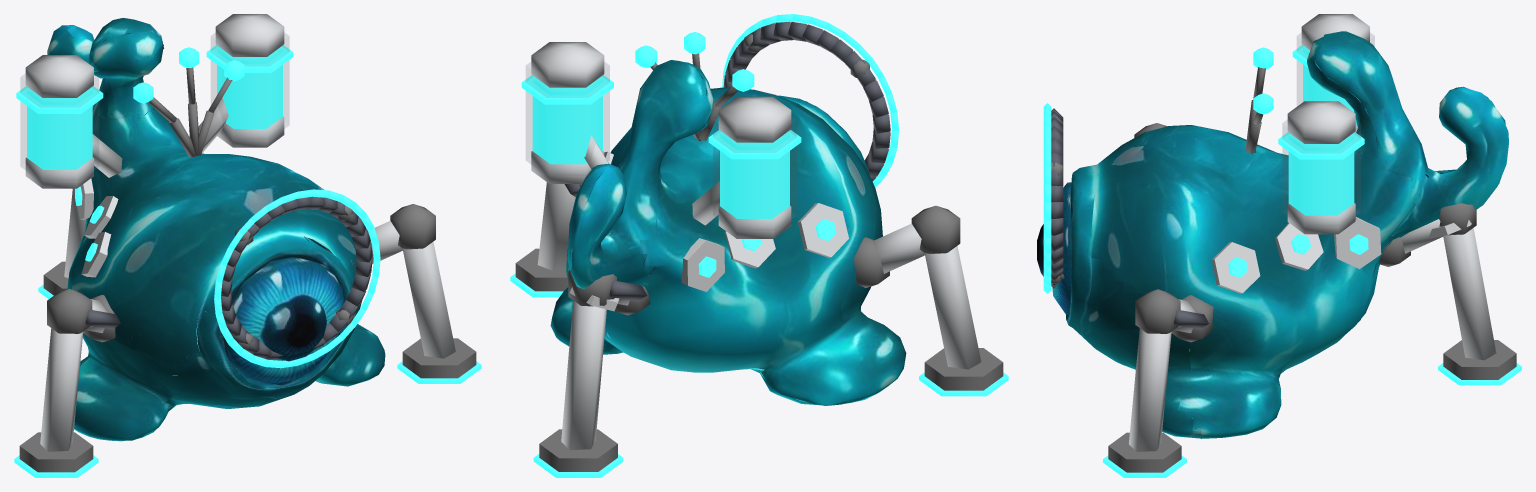
Rendered from Monster_VEX.glb.
3 views of the same model, side by side, from view 1: azimuth 30°, elevation 25°; view 2: azimuth 150°, elevation 25°; view 3: azimuth 270°, elevation 25° (orthographic). The views are drawn at different scales.
Parts seen in each view (by area): view 1: Monster_VEX, Monster_VEX_Evolution; view 2: Monster_VEX, Monster_VEX_Evolution; view 3: Monster_VEX, Monster_VEX_Evolution.
Boxes of the visible parts, box(x1,y1,x2,y2) form: Monster_VEX: box(47, 18, 385, 441); Monster_VEX_Evolution: box(14, 14, 481, 477); Monster_VEX: box(550, 60, 906, 405); Monster_VEX_Evolution: box(510, 14, 1008, 477); Monster_VEX: box(1037, 31, 1508, 438); Monster_VEX_Evolution: box(1043, 14, 1521, 477).
Bounding box in the file's own units: 2.5 × 1.75 × 2.36.
Materials: 7 (1 with a texture image).
